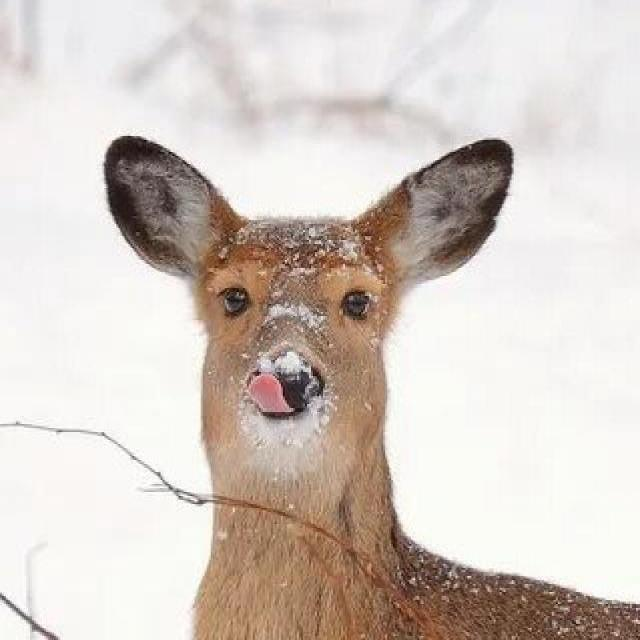deer: (96, 90, 640, 640)
